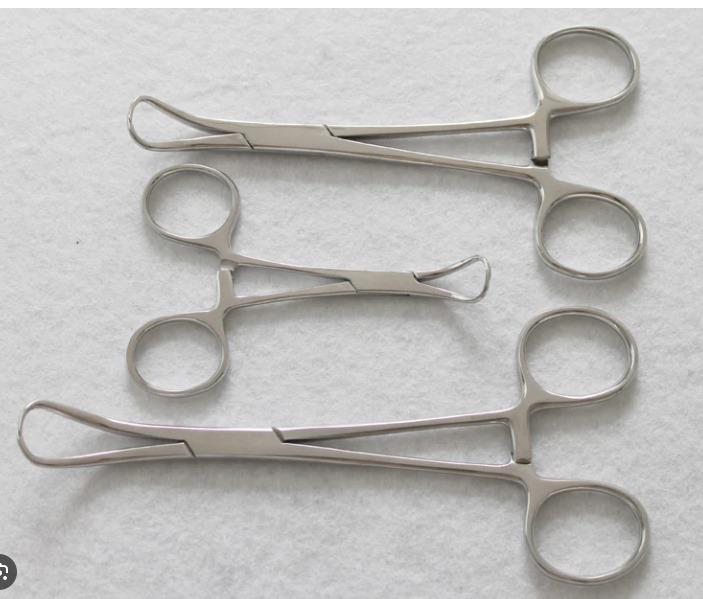Backhaus Towel Clamp: (17, 305, 654, 587), (109, 23, 650, 281), (121, 161, 496, 403)
